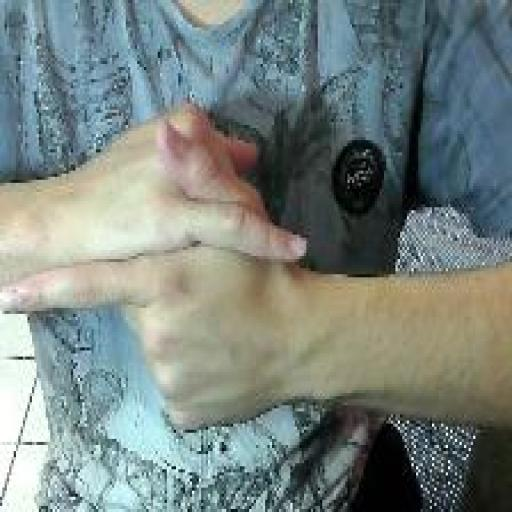U -hare-: (0, 97, 311, 439)
